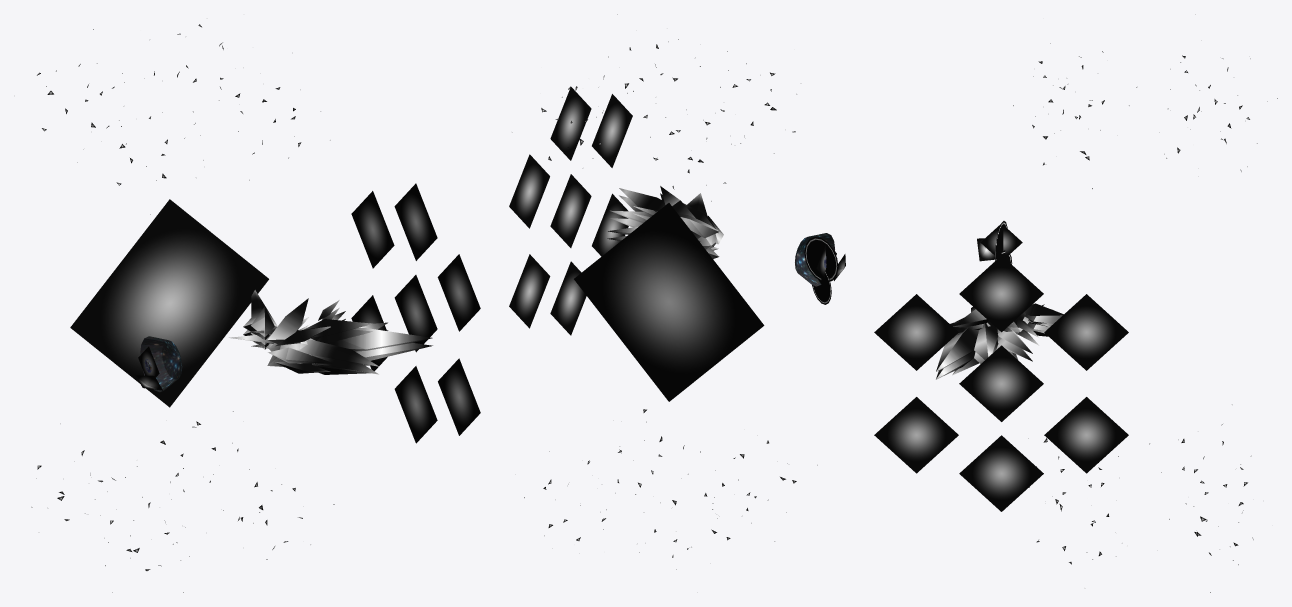
3 renders of one model, left to right at view 1: azimuth 30°, elevation 25°; view 2: azimuth 150°, elevation 25°; view 3: azimuth 270°, elevation 25°, orthographic. The views are drawn at different scales.
Visible parts, largest first — view 1: M_0015_0, M_0015_1; view 2: M_0015_0, M_0015_1; view 3: M_0015_0.
Part boxes in pixels (x1,y1,x2,y2): M_0015_0: (31, 14, 480, 592); M_0015_1: (140, 336, 182, 392); M_0015_0: (509, 14, 845, 569); M_0015_1: (795, 233, 834, 286); M_0015_0: (874, 14, 1277, 592).
Size of the model in its own units: 4.1 by 7.03 by 5.13.
2 materials, 2 textured.
